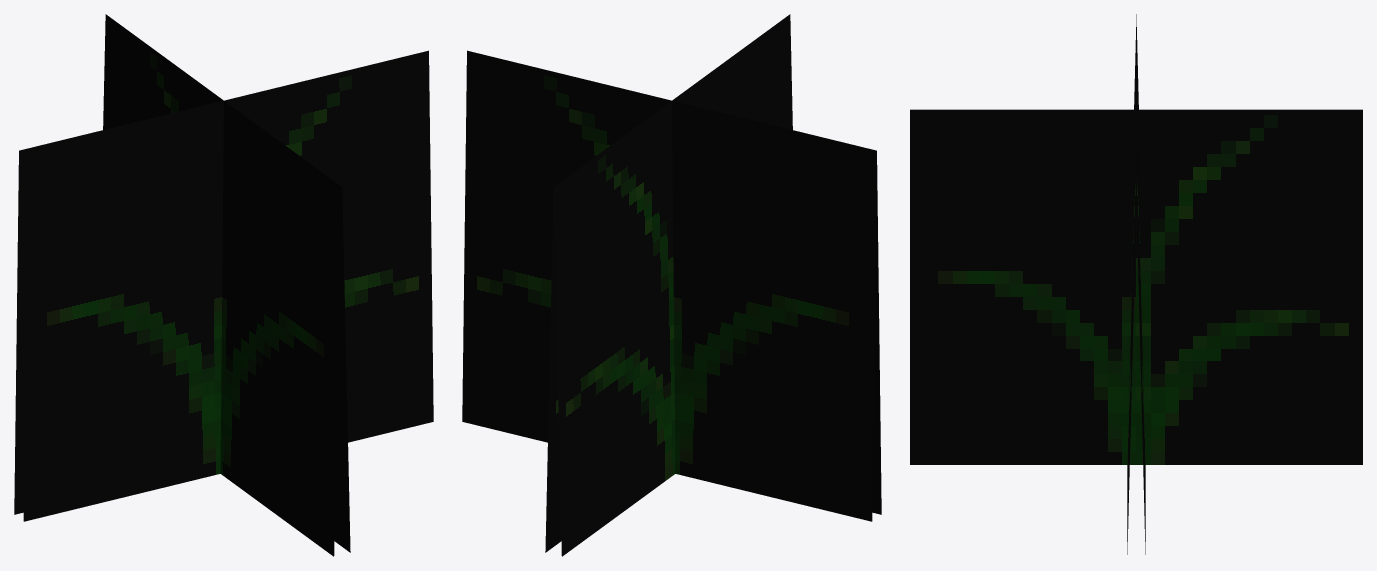
Rendered from grass04.glb.
The picture shows the model from 3 angles, left to right: view 1: azimuth 30°, elevation 25°; view 2: azimuth 150°, elevation 25°; view 3: azimuth 270°, elevation 25°; orthographic projection. The views are drawn at different scales.
Visible parts, largest first — view 1: grass4; view 2: grass4; view 3: grass4.
Boxes of the visible parts, x1,y1,x2,y2 form: grass4: (14, 14, 433, 556); grass4: (462, 14, 881, 556); grass4: (910, 14, 1362, 554).
Bounding box in the file's own units: 0.5 × 0.4286 × 0.5.
Materials: 1 (1 with a texture image).
